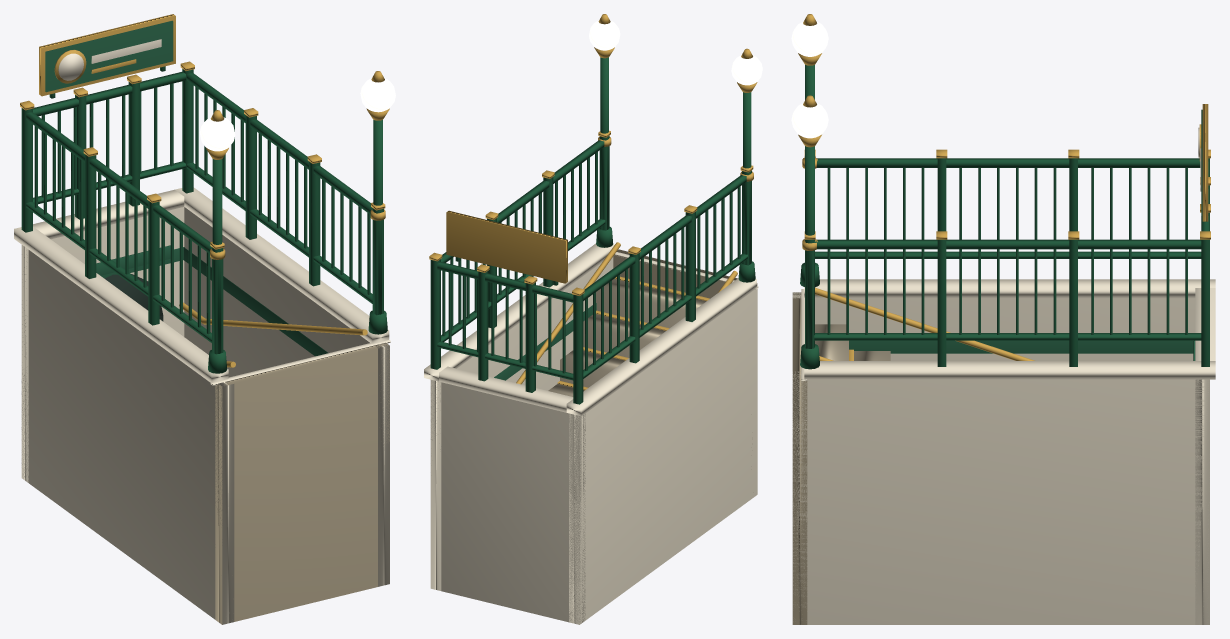
File: street_subway.glb
3 renders of one model, left to right at view 1: azimuth 30°, elevation 25°; view 2: azimuth 150°, elevation 25°; view 3: azimuth 270°, elevation 25°, orthographic. The views are drawn at different scales.
Visible parts, largest first — view 1: WallL, WallMouth, WallR, WallFar, CopingL, CopingR, SignFace, RailLTop, RailRTop, SignFrame, LampPostL, RailLBottom (+24 smaller); view 2: WallL, WallFar, WallR, SignFrame, CopingL, CopingR, CopingFar, Step0, RailLTop, WallMouth, RailLBottom, LampPostL (+20 smaller); view 3: WallR, WallL, CopingR, CopingL, WallMouth, BandL, RailRTop, WallFar, RailLTop, RailRBottom, RailLBottom, LampPostR (+12 smaller).
Boxes of the visible parts, x1=… form: WallL: x1=21, y1=250, x2=234, y2=624; WallMouth: x1=215, y1=343, x2=389, y2=624; WallR: x1=184, y1=207, x2=389, y2=586; WallFar: x1=21, y1=207, x2=184, y2=482; CopingL: x1=14, y1=226, x2=228, y2=383; CopingR: x1=175, y1=187, x2=389, y2=343; SignFace: x1=45, y1=20, x2=173, y2=92; RailLTop: x1=26, y1=112, x2=211, y2=253; RailRTop: x1=187, y1=73, x2=372, y2=214; SignFrame: x1=39, y1=14, x2=175, y2=96; LampPostL: x1=212, y1=159, x2=222, y2=353; RailLBottom: x1=26, y1=201, x2=211, y2=342; WallL: x1=569, y1=283, x2=757, y2=624; WallFar: x1=430, y1=381, x2=585, y2=624; WallR: x1=430, y1=249, x2=618, y2=590; SignFrame: x1=446, y1=210, x2=567, y2=283; CopingL: x1=566, y1=278, x2=756, y2=416; CopingR: x1=424, y1=243, x2=614, y2=381; CopingFar: x1=439, y1=366, x2=573, y2=412; Step0: x1=596, y1=278, x2=706, y2=328; RailLTop: x1=583, y1=175, x2=746, y2=300; WallMouth: x1=613, y1=249, x2=737, y2=298; RailLBottom: x1=583, y1=253, x2=747, y2=378; LampPostL: x1=743, y1=92, x2=751, y2=264; WallR: x1=792, y1=371, x2=1209, y2=624; WallL: x1=792, y1=292, x2=1195, y2=360; CopingR: x1=804, y1=361, x2=1215, y2=379; CopingL: x1=804, y1=279, x2=1215, y2=298; WallMouth: x1=792, y1=292, x2=807, y2=624; BandL: x1=849, y1=340, x2=1194, y2=353; RailRTop: x1=814, y1=239, x2=1201, y2=249; WallFar: x1=1195, y1=379, x2=1209, y2=624; RailLTop: x1=817, y1=158, x2=1200, y2=167; RailRBottom: x1=814, y1=333, x2=1201, y2=340; RailLBottom: x1=815, y1=251, x2=1201, y2=258; LampPostR: x1=805, y1=146, x2=814, y2=348.
Size of the model in its own units: 1.59 by 4.04 by 2.95.
